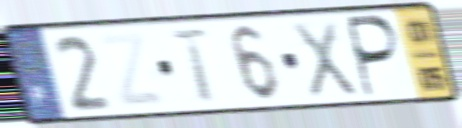2: (51, 32, 115, 114)
6: (228, 22, 282, 104)
P: (345, 13, 403, 101)
T: (167, 27, 220, 105)
X: (288, 18, 361, 101)
Z: (96, 29, 170, 110)
